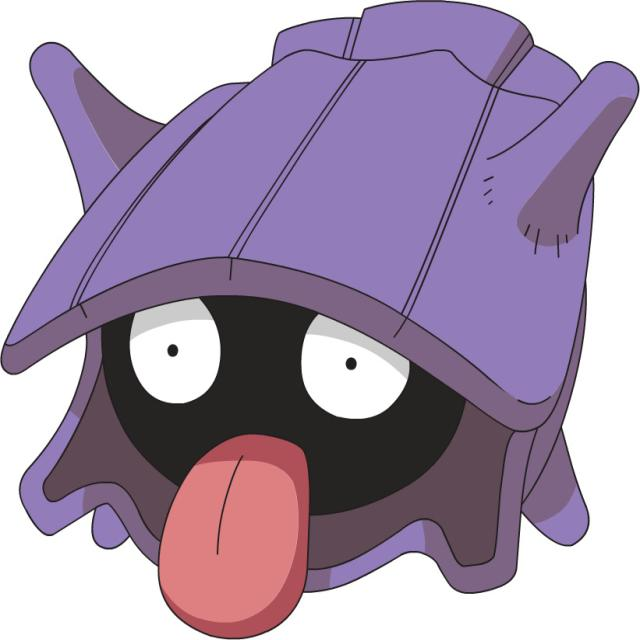Shellder: (0, 3, 612, 630)
